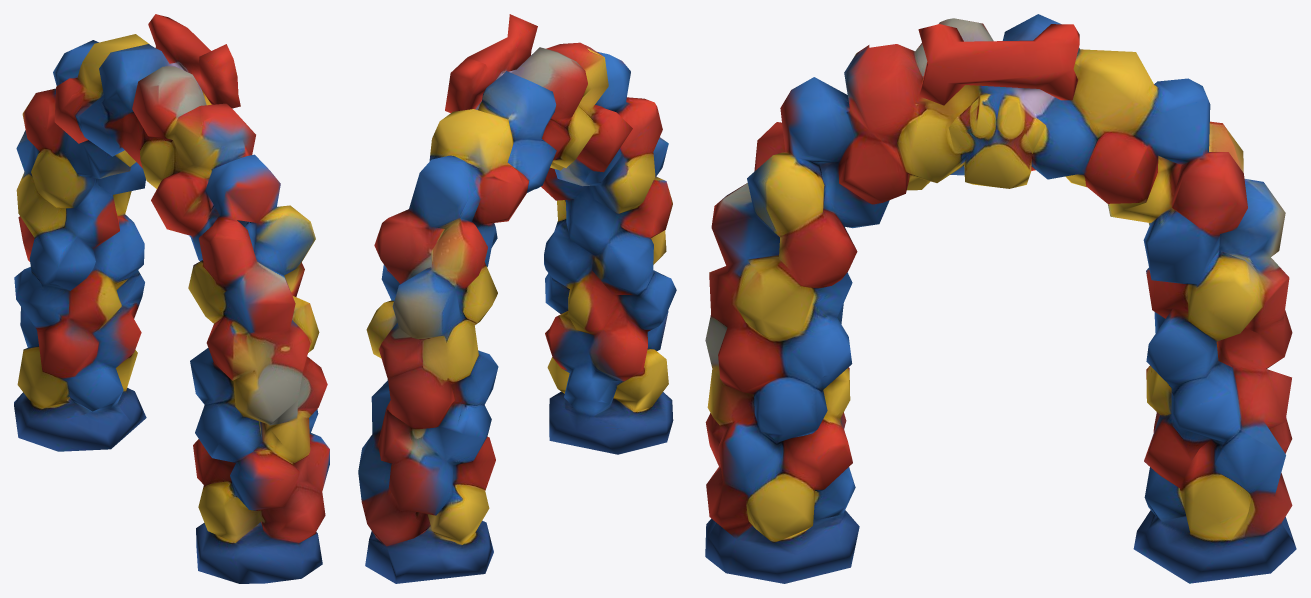
Rendered from balloon-arch.glb.
3 renders of one model, left to right at view 1: azimuth 30°, elevation 25°; view 2: azimuth 150°, elevation 25°; view 3: azimuth 270°, elevation 25°, orthographic. The views are drawn at different scales.
Parts seen in each view (by area): view 1: tripo_node_130dc82d-e3d2-4b50-9502-be4f09ad3c9c; view 2: tripo_node_130dc82d-e3d2-4b50-9502-be4f09ad3c9c; view 3: tripo_node_130dc82d-e3d2-4b50-9502-be4f09ad3c9c.
Boxes of the visible parts, left/top/right/bottom form: tripo_node_130dc82d-e3d2-4b50-9502-be4f09ad3c9c: left=14, top=14, right=329, bottom=583; tripo_node_130dc82d-e3d2-4b50-9502-be4f09ad3c9c: left=358, top=14, right=676, bottom=583; tripo_node_130dc82d-e3d2-4b50-9502-be4f09ad3c9c: left=705, top=14, right=1296, bottom=583.
Bounding box in the file's own units: 0.2716 × 1 × 0.9811.
Materials: 1 (1 with a texture image).
